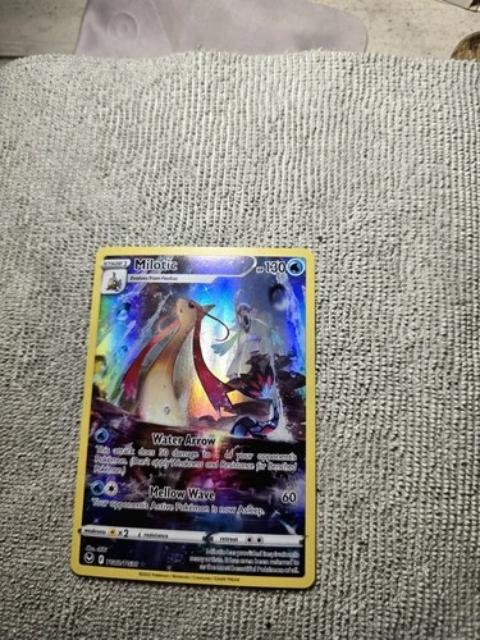Card: (68, 242, 320, 591)
Name: (128, 251, 182, 274)
